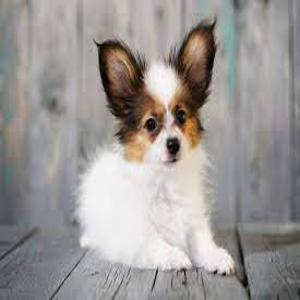yell: (77, 20, 234, 274)
